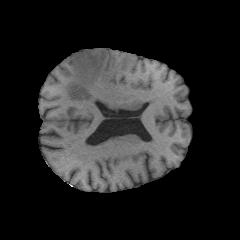glioma: (67, 49, 106, 102)
